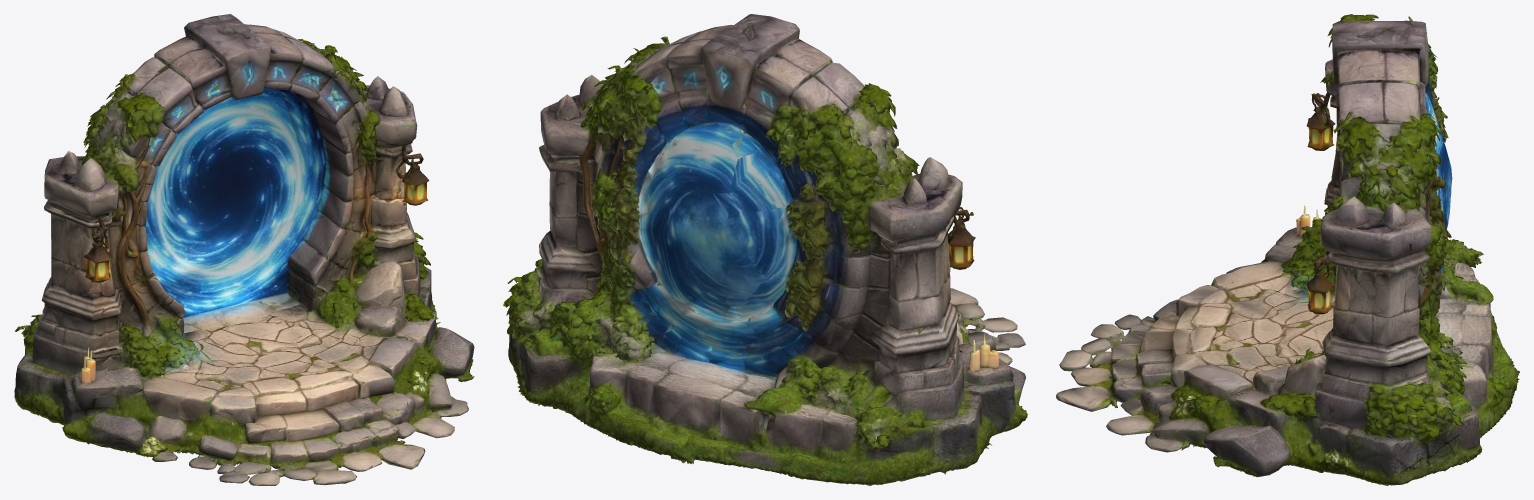
The model's file is The_Arcane_Gateway.glb.
3 renders of one model, left to right at view 1: azimuth 30°, elevation 25°; view 2: azimuth 150°, elevation 25°; view 3: azimuth 270°, elevation 25°, orthographic. The views are drawn at different scales.
Parts seen in each view (by area): view 1: The_Arcane_Gateway; view 2: The_Arcane_Gateway; view 3: The_Arcane_Gateway.
Part boxes in pixels (x1=…): The_Arcane_Gateway: x1=14, y1=14, x2=474, y2=485; The_Arcane_Gateway: x1=503, y1=14, x2=1027, y2=485; The_Arcane_Gateway: x1=1056, y1=14, x2=1519, y2=485.
Size of the model in its own units: 1.88 by 1.45 by 1.72.
Materials: 1 (1 with a texture image).
